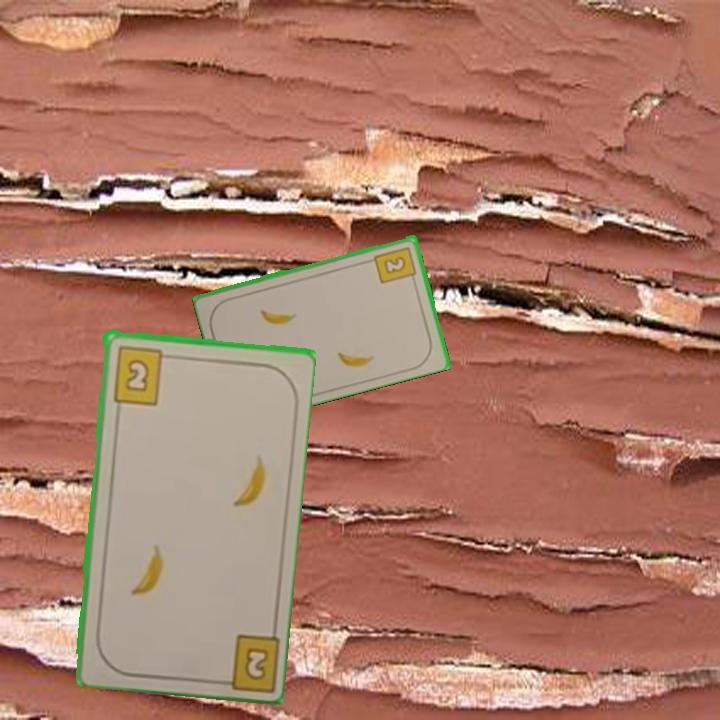2b: (210, 630, 280, 691), (109, 342, 174, 407), (371, 243, 419, 286)
